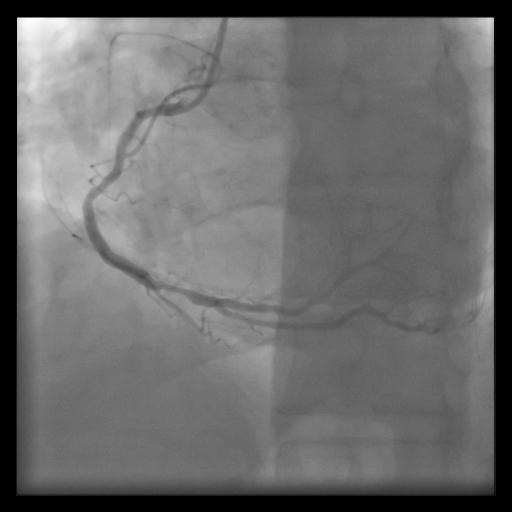Stenosis: (151, 271, 196, 307)
